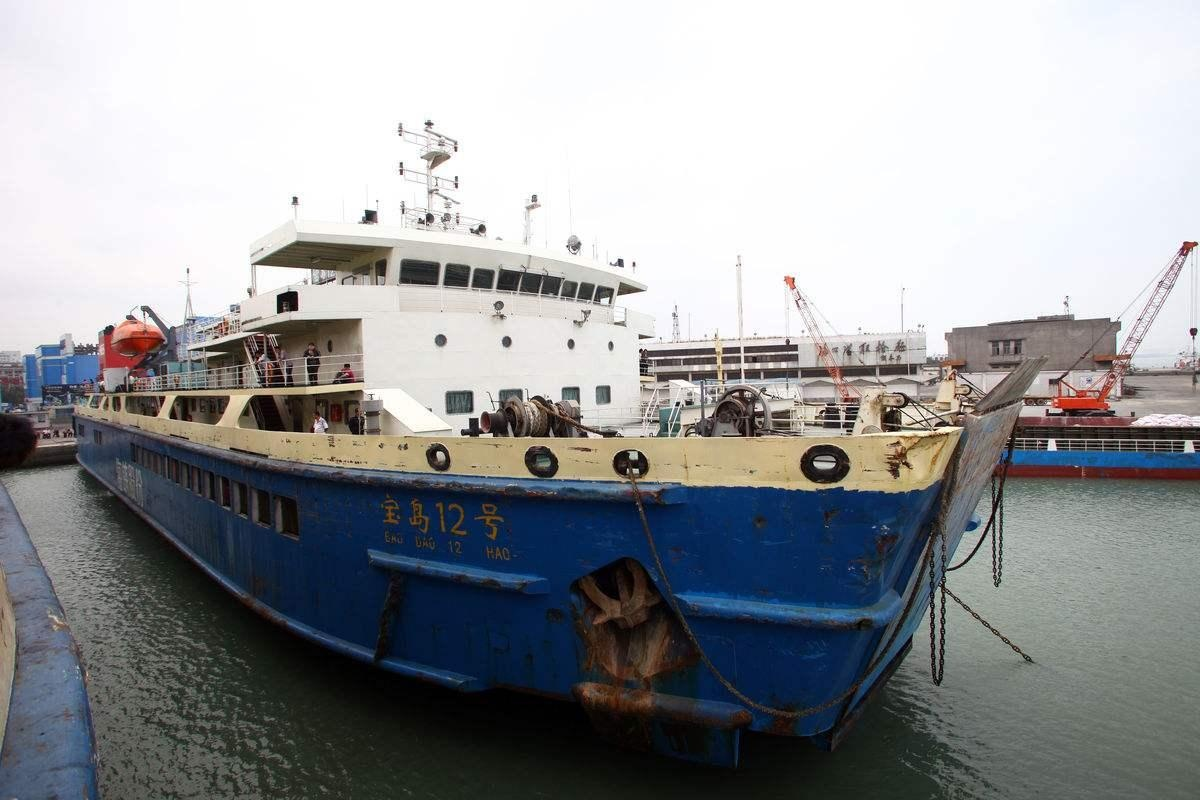otherboat: (74, 126, 1010, 730)
